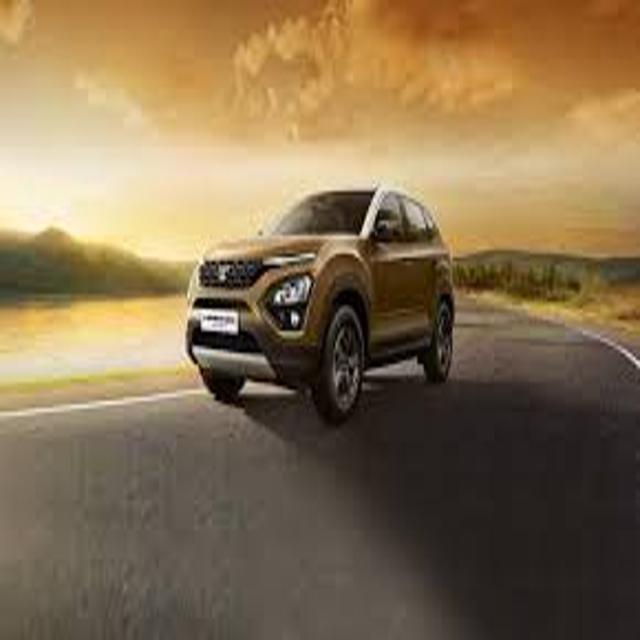car: (187, 187, 453, 421)
